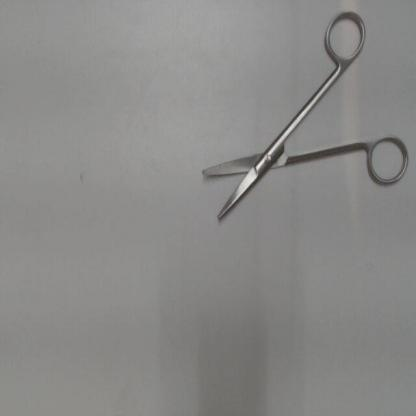Curved Mayo Scissors: (195, 6, 413, 231)
